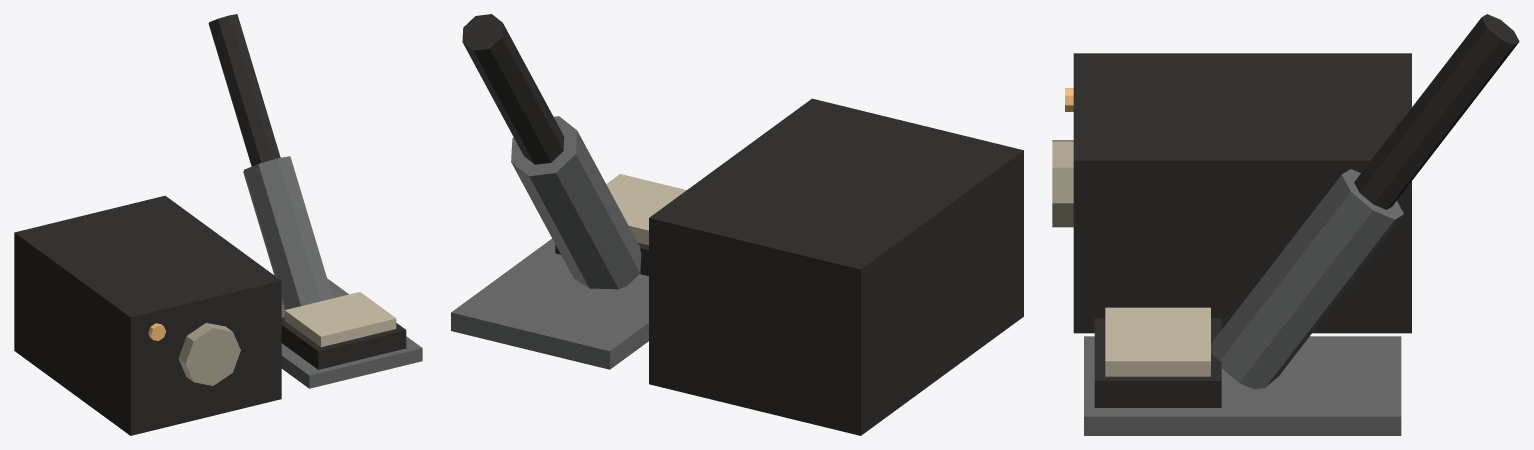
Rendered from soldering-station.glb.
3 views of the same model, side by side, from view 1: azimuth 30°, elevation 25°; view 2: azimuth 150°, elevation 25°; view 3: azimuth 270°, elevation 25° (orthographic). The views are drawn at different scales.
Visible parts, largest first — view 1: plastic-dark, metal, paper, plastic-light; view 2: plastic-dark, metal, paper; view 3: plastic-dark, metal, paper, plastic-light.
Part boxes in pixels (bbox=[...]): plastic-dark: bbox=[14, 14, 406, 435]; metal: bbox=[243, 156, 422, 388]; paper: bbox=[284, 292, 396, 347]; plastic-light: bbox=[178, 323, 240, 385]; plastic-dark: bbox=[462, 14, 1023, 435]; metal: bbox=[451, 116, 648, 369]; paper: bbox=[606, 174, 686, 245]; plastic-dark: bbox=[1073, 14, 1519, 407]; metal: bbox=[1084, 169, 1403, 435]; paper: bbox=[1105, 307, 1210, 376]; plastic-light: bbox=[1052, 140, 1073, 227].
Size of the model in its own units: 0.235 by 0.1973 by 0.2209.
